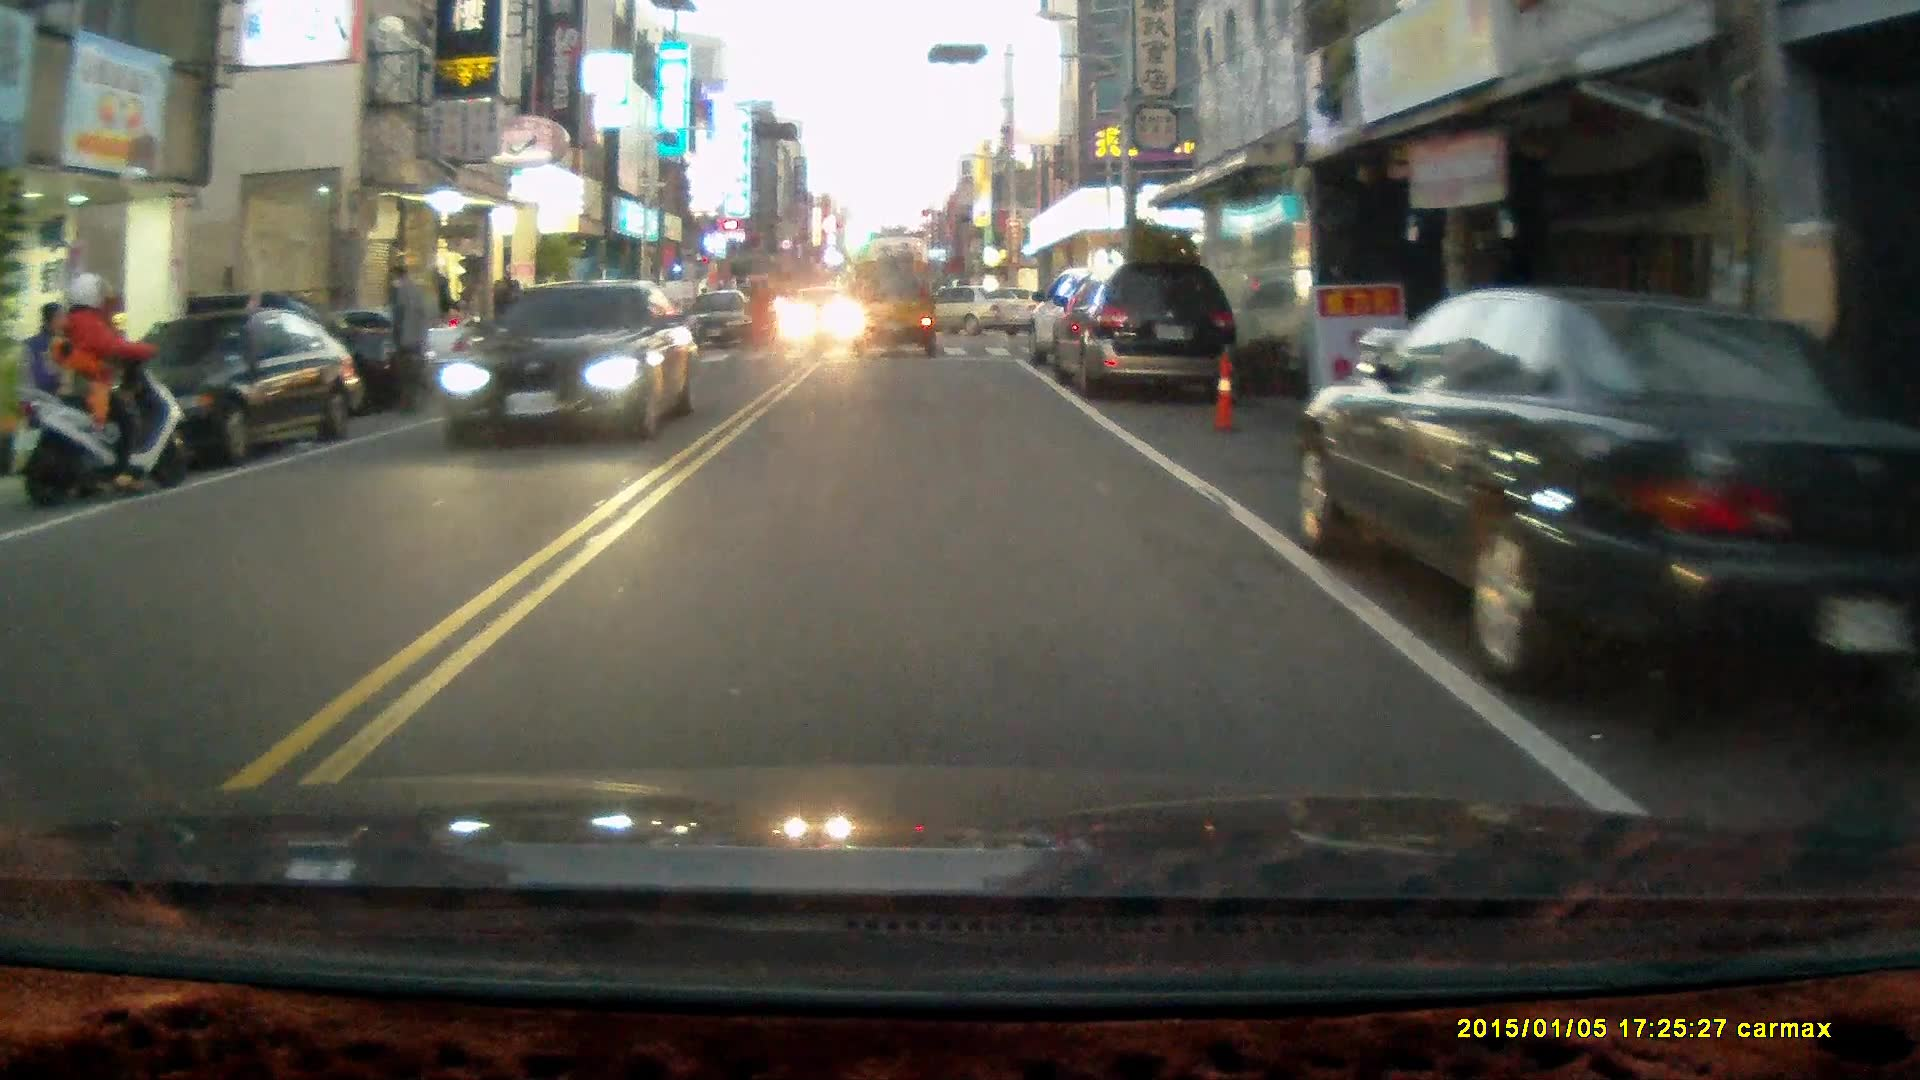pedestrian: (383, 264, 433, 416)
rider: (17, 271, 191, 511)
vehicle: (1297, 282, 1901, 721), (440, 279, 702, 449), (98, 311, 354, 475), (1046, 258, 1240, 399), (851, 258, 940, 357), (896, 284, 1036, 342), (688, 290, 758, 347)
